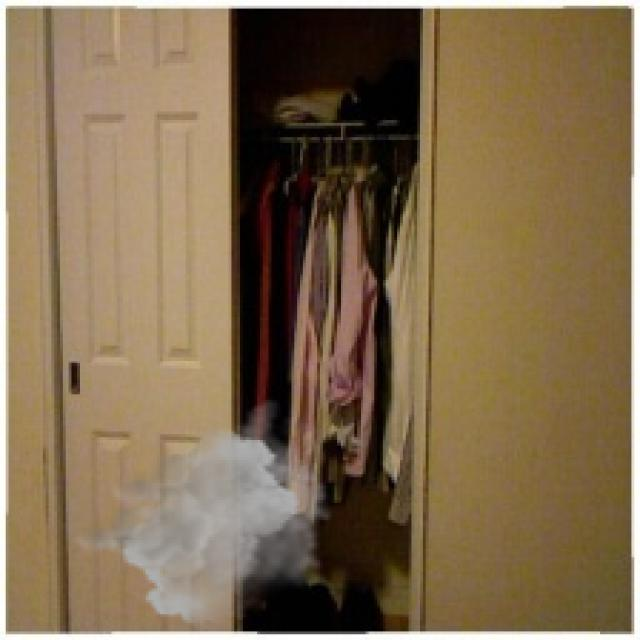smoke: (72, 397, 334, 629)
